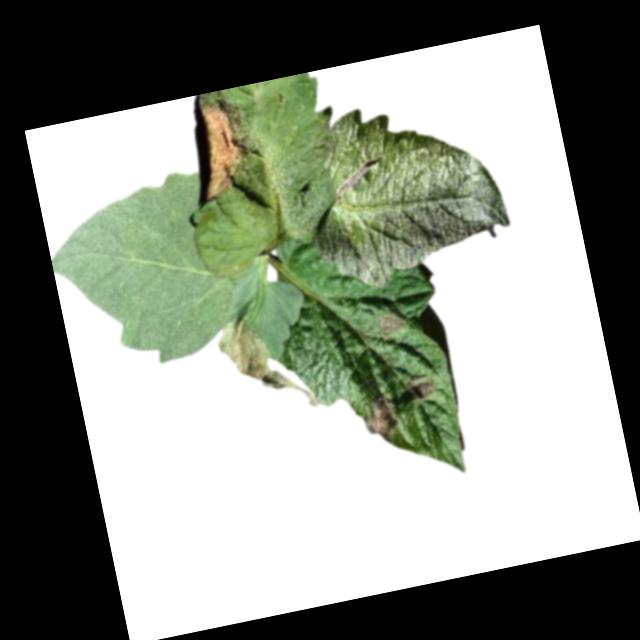Late_blight: (181, 93, 256, 207), (213, 311, 296, 406), (363, 396, 400, 445), (370, 312, 405, 339), (407, 378, 437, 402)
